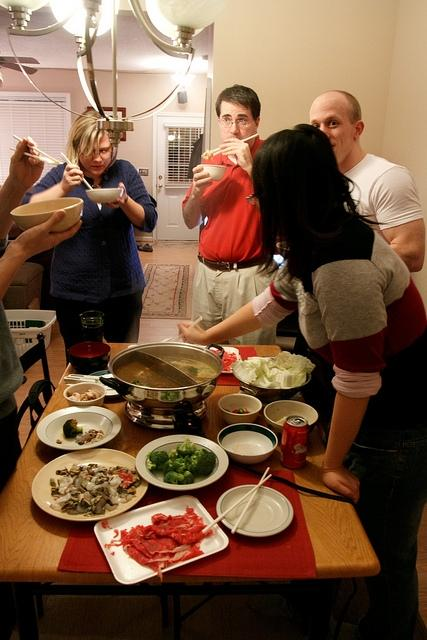broccoli: (187, 454, 214, 476), (63, 419, 83, 438), (192, 449, 216, 464), (147, 451, 170, 466), (176, 438, 192, 456), (164, 471, 184, 484), (172, 460, 188, 474), (162, 460, 174, 475), (183, 470, 195, 484), (169, 449, 179, 462), (173, 458, 186, 463)
